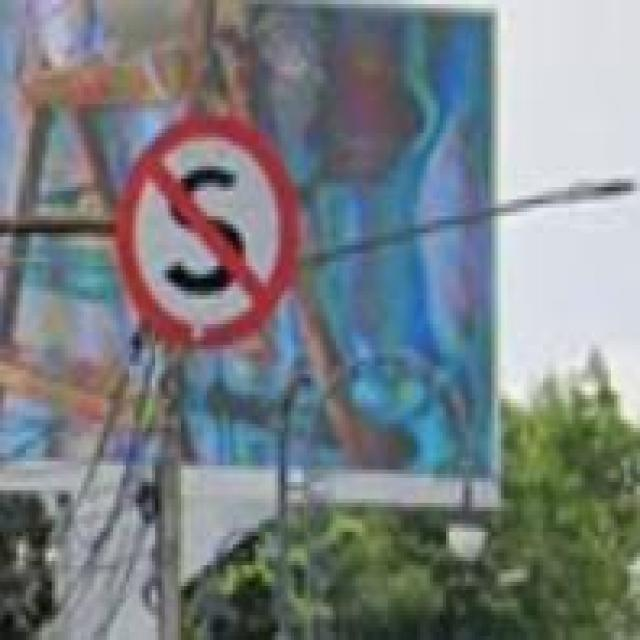traffic sign: (120, 116, 298, 348)
